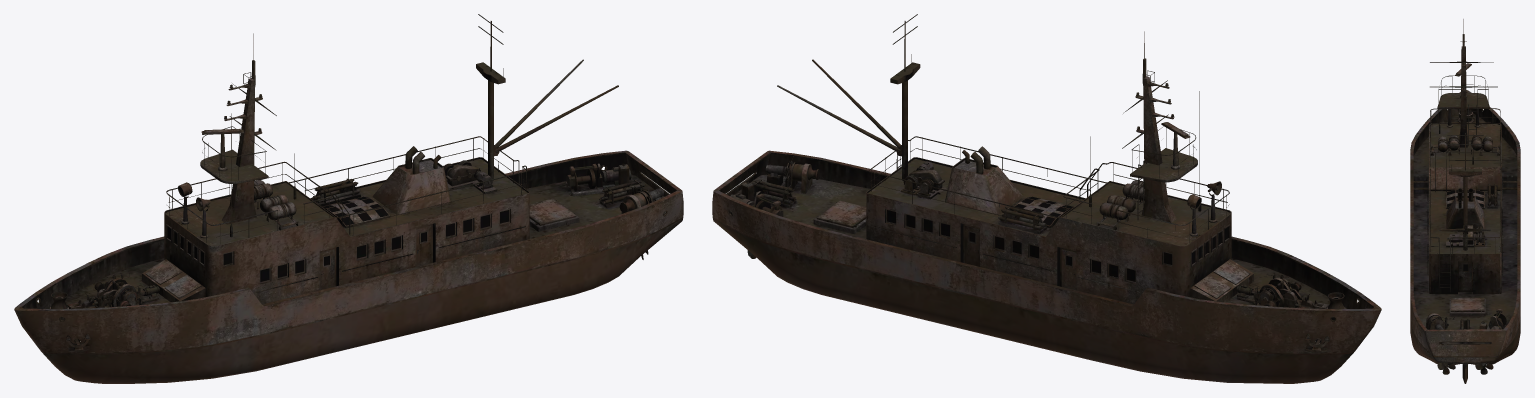
Rendered from rusted_vessel.glb.
3 renders of one model, left to right at view 1: azimuth 30°, elevation 25°; view 2: azimuth 150°, elevation 25°; view 3: azimuth 270°, elevation 25°, orthographic. The views are drawn at different scales.
Visible parts, largest first — view 1: rusted_vessel; view 2: rusted_vessel; view 3: rusted_vessel.
Boxes of the visible parts, x1,y1,x2,y2 form: rusted_vessel: (14, 14, 683, 383); rusted_vessel: (712, 14, 1381, 383); rusted_vessel: (1410, 19, 1520, 383).
Bounding box in the file's own units: 0.9999 × 0.4687 × 0.2018.
Materials: 1 (1 with a texture image).
